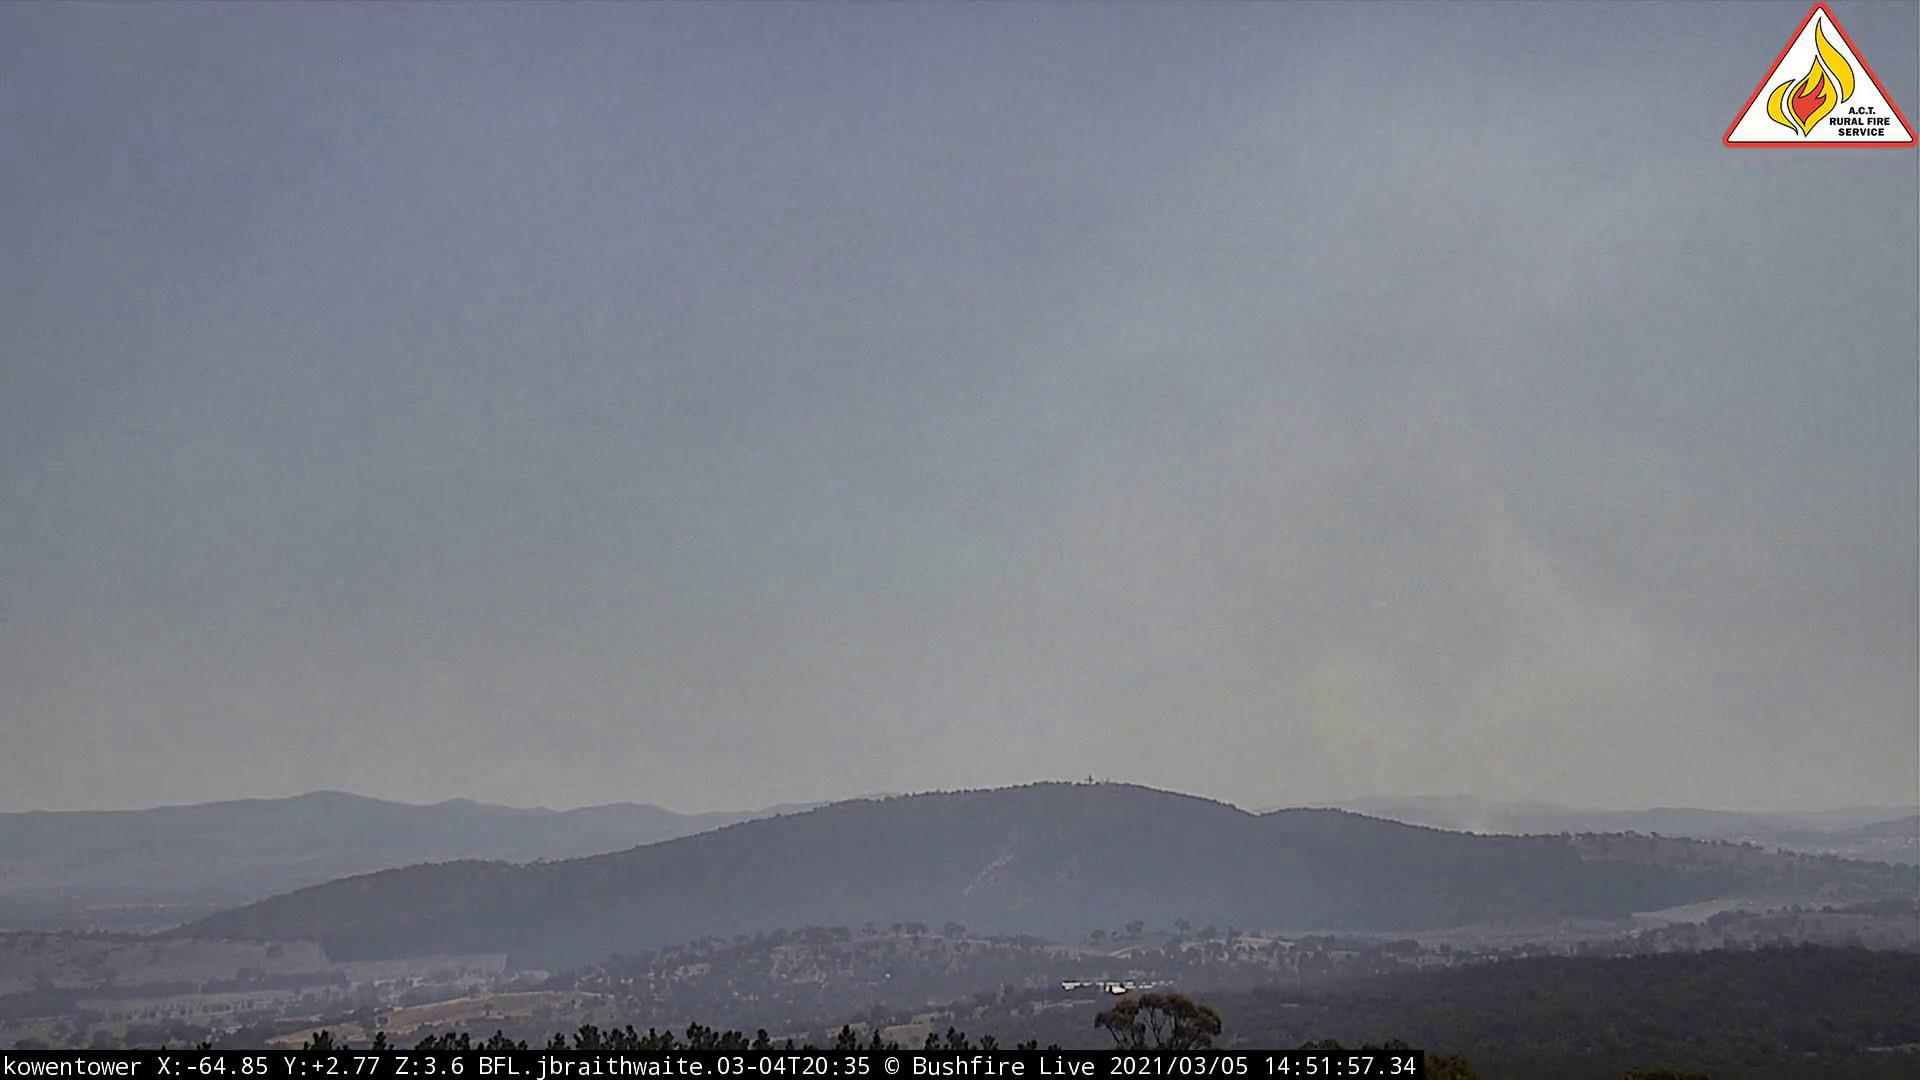Smoke: (1105, 344, 1708, 843)
